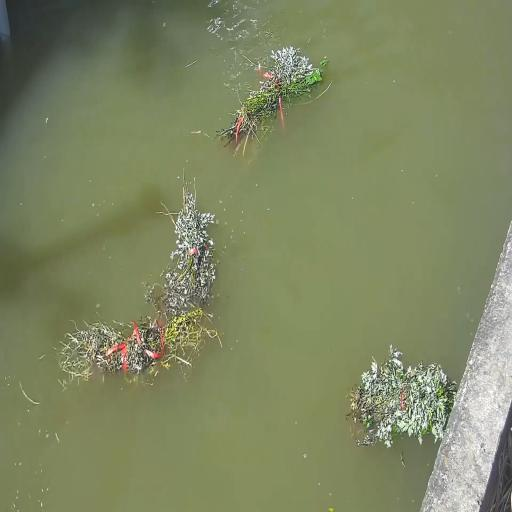twig: (216, 44, 325, 154), (347, 340, 456, 450), (61, 306, 215, 382), (156, 175, 216, 312)
